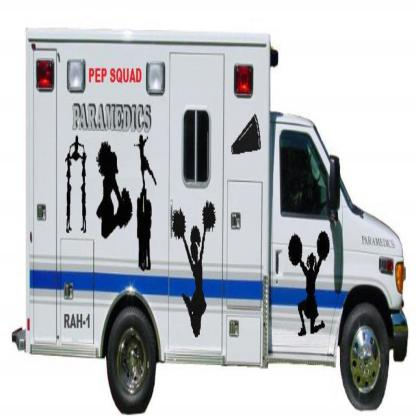Ambulance: (11, 27, 408, 415)
Truck: (11, 25, 409, 415)
